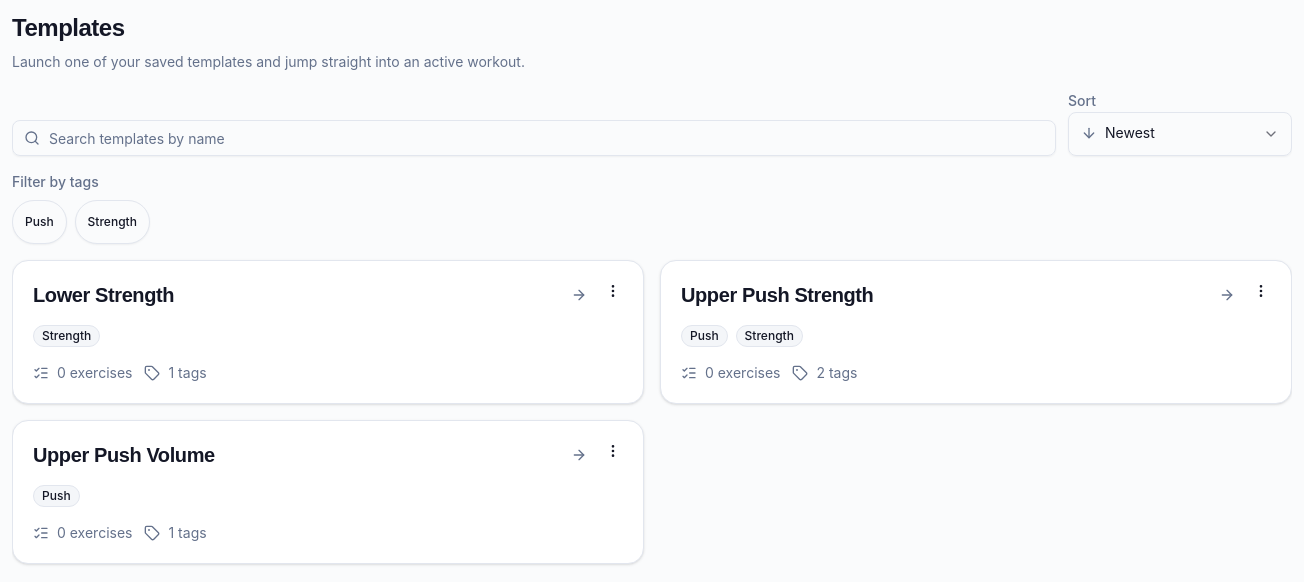
Test: TemplateBrowser › filters templates by selected tags using AND logic
Click the button with aria-label "Filter by tag Push" at (39, 222), box [12,200,67,244]
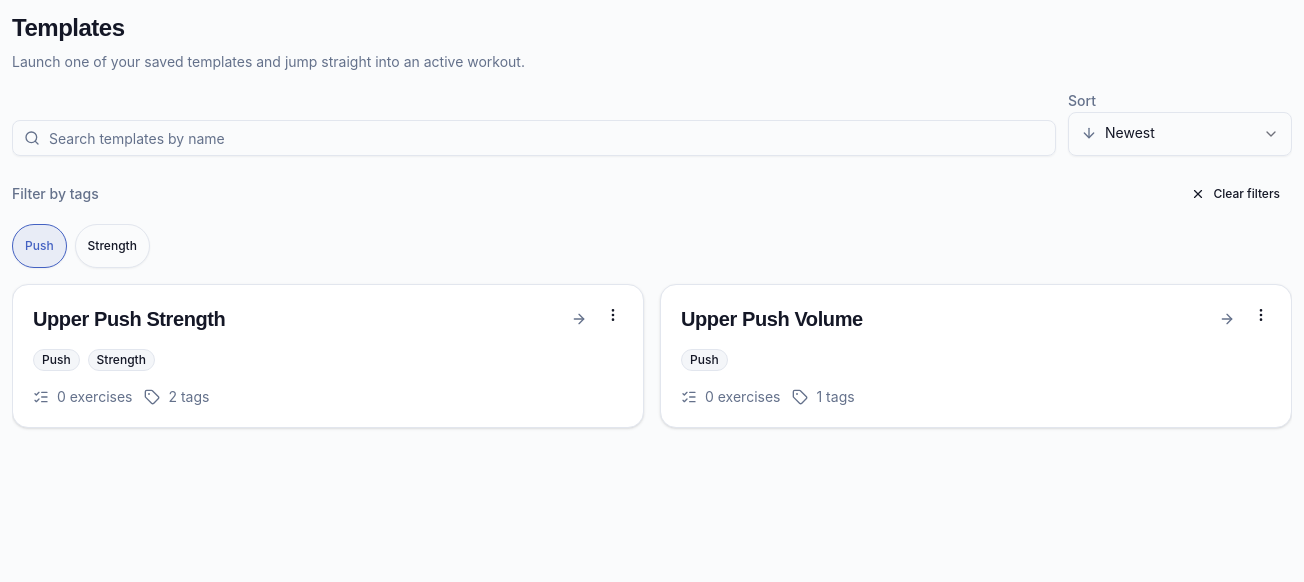
Expected: the link "Upper Push Strength" is shown, [33,305,587,407]
Now the link "Lower Strength" is gone
Click the button with aria-label "Filter by tag Strength" at (112, 246), box [75,224,150,268]
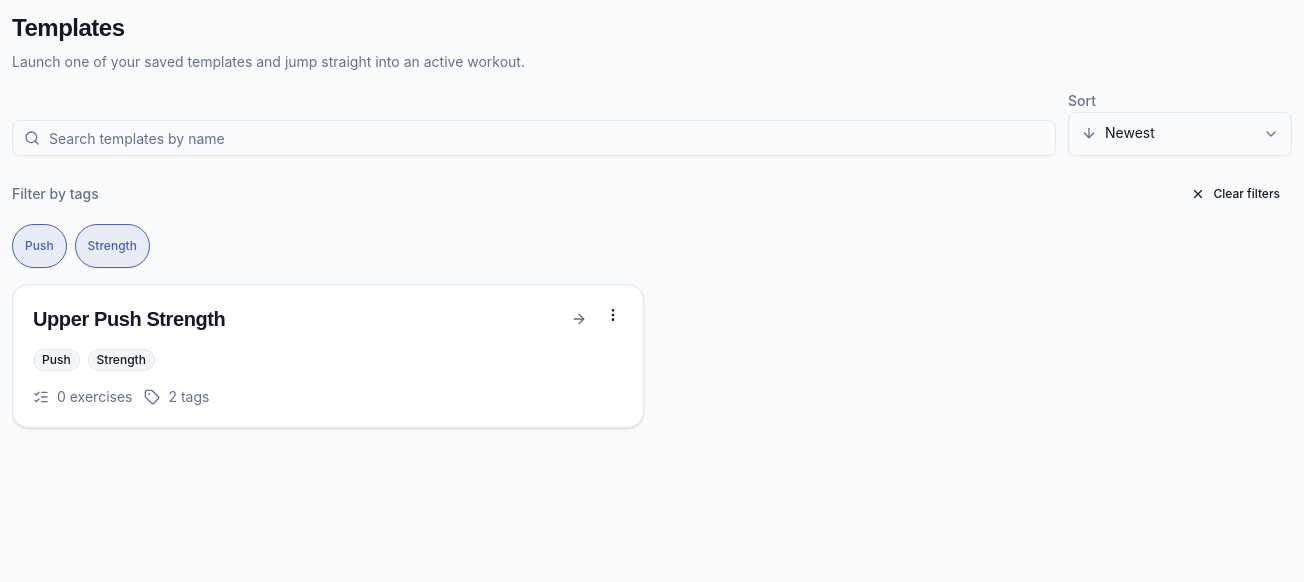
Expected: the link "Upper Push Strength" is shown, [33,305,587,407]
Now the link "Upper Push Volume" is gone
Click the button "Clear filters" at (1236, 194), box [1179,172,1292,216]
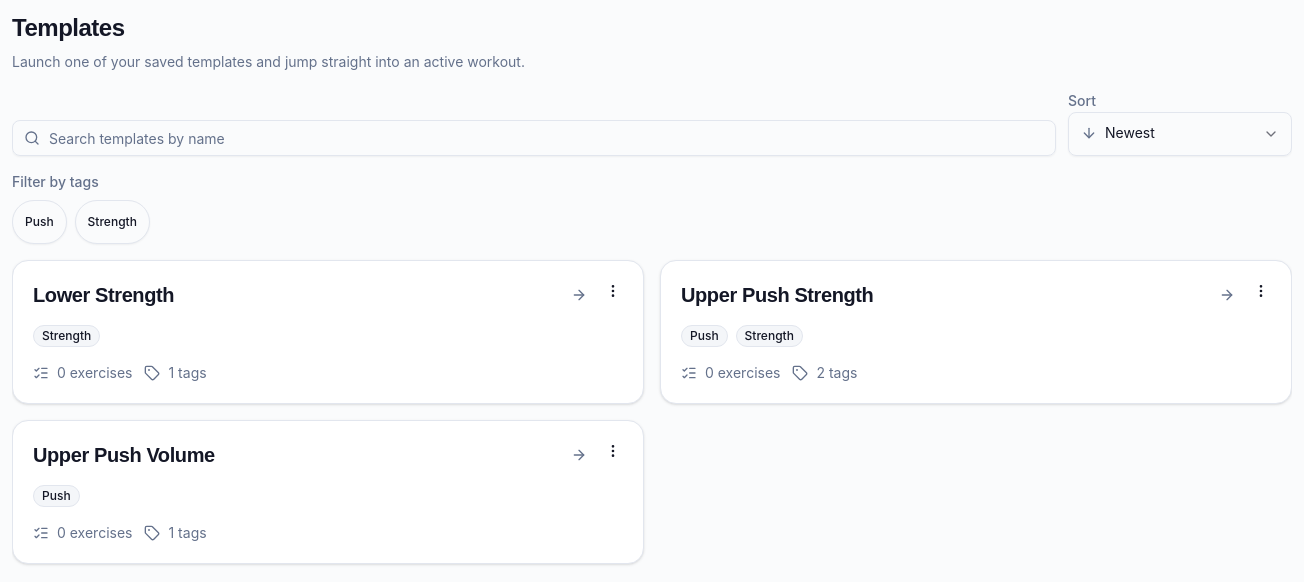
Expected: the link "Upper Push Strength" is shown, [681,281,1235,383]
Now the link "Upper Push Volume" is shown, box [33,441,587,543]
Now the link "Lower Strength" is shown, box [33,281,587,383]
